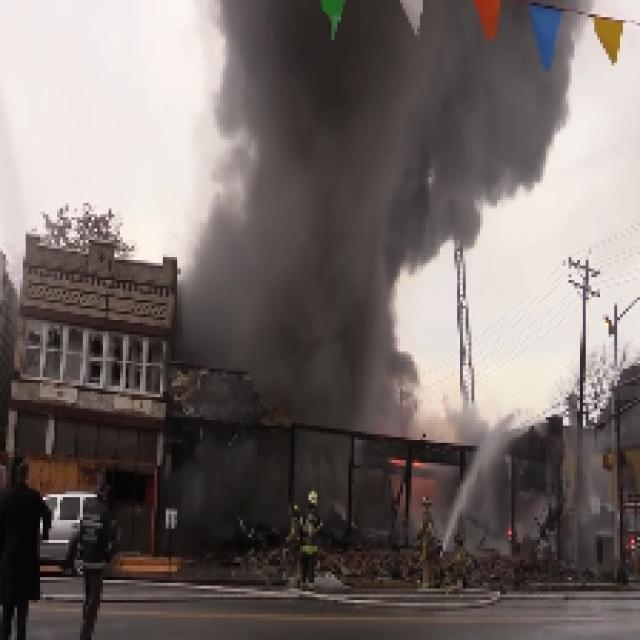Smoke: (180, 37, 443, 357), (454, 74, 572, 246), (263, 366, 380, 420), (208, 442, 286, 518)
